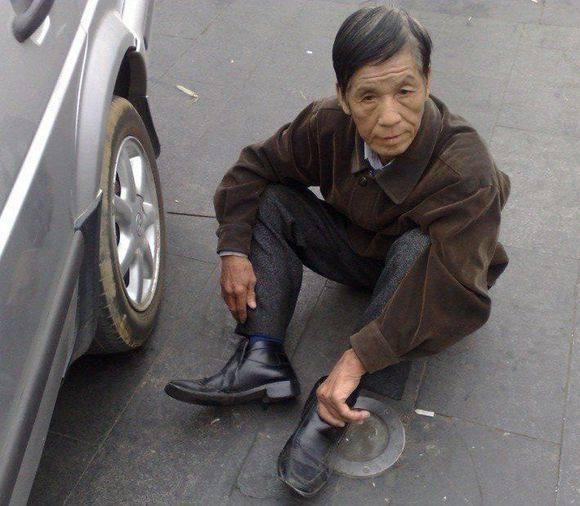bending: (160, 3, 512, 501)
